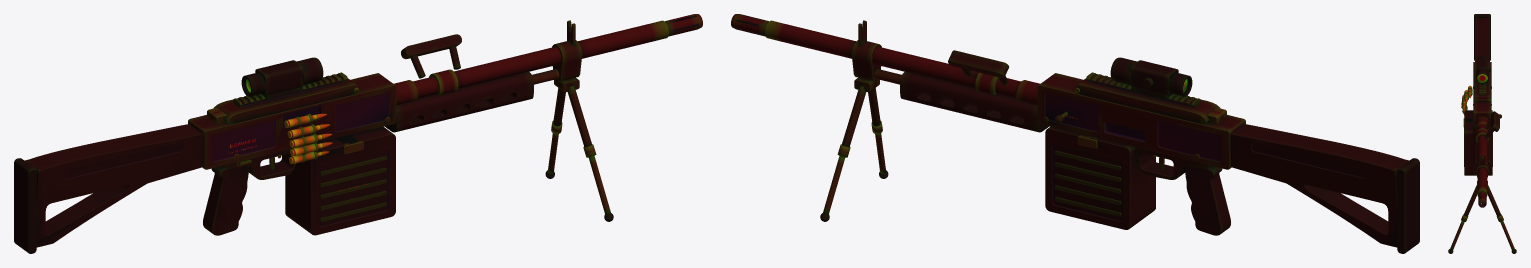
Rendered from bulwark.glb.
The picture shows the model from 3 angles, left to right: view 1: azimuth 30°, elevation 25°; view 2: azimuth 150°, elevation 25°; view 3: azimuth 270°, elevation 25°; orthographic projection. The views are drawn at different scales.
Parts seen in each view (by area): view 1: base; view 2: base; view 3: base.
Boxes of the visible parts, x1,y1,x2,y2 form: base: [14, 14, 702, 253]; base: [731, 14, 1419, 253]; base: [1448, 14, 1516, 253].
Size of the model in its own units: 1.17 by 0.3383 by 0.1886.
